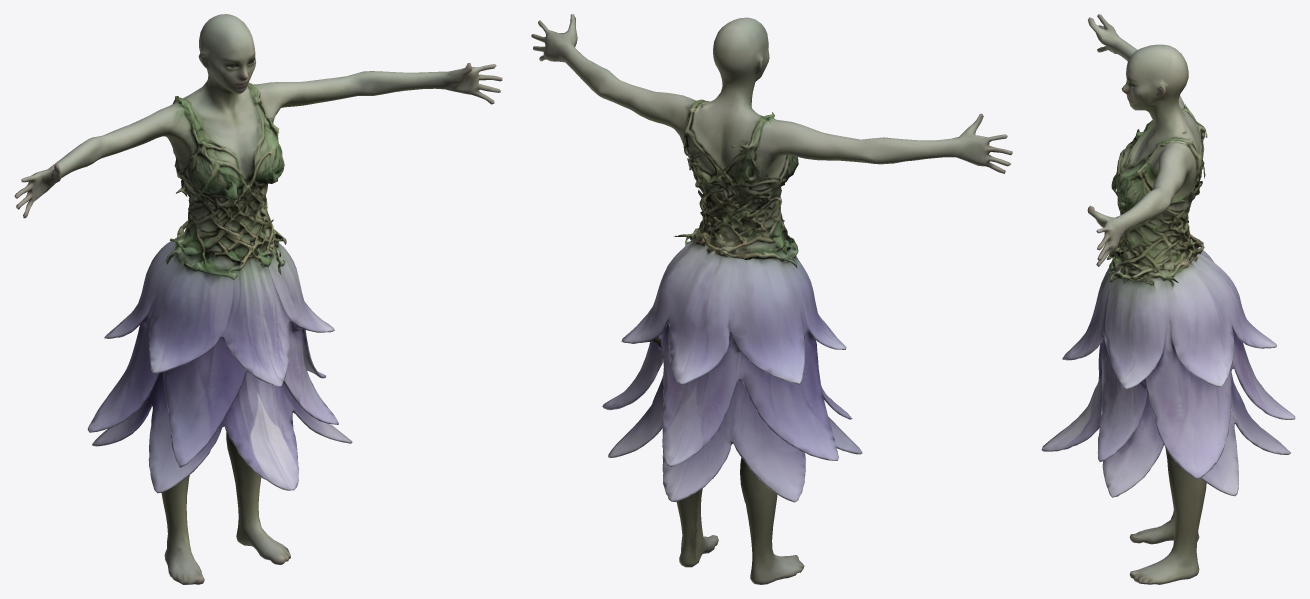
Rendered from 0006_rig.fbx.
The picture shows the model from 3 angles, left to right: view 1: azimuth 30°, elevation 25°; view 2: azimuth 150°, elevation 25°; view 3: azimuth 270°, elevation 25°; orthographic projection. The views are drawn at different scales.
Visible parts, largest first — view 1: body_geometry; view 2: body_geometry; view 3: body_geometry.
Boxes of the visible parts, x1,y1,x2,y2 form: body_geometry: (14,14,502,584); body_geometry: (531,14,1012,584); body_geometry: (1041,14,1295,584).
Size of the model in its own units: 1.86 by 2 by 0.8959.
1 material, 1 textured.
